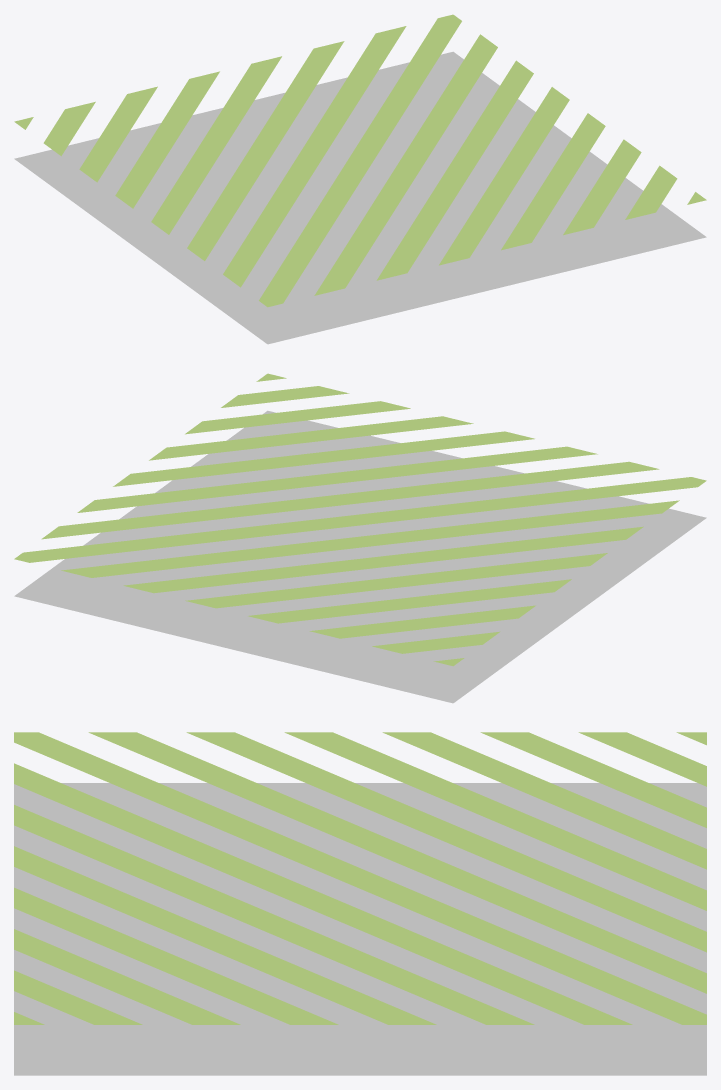
The model's file is -1_green.fbx.
3 views of the same model, one above another, from view 1: azimuth 30°, elevation 25°; view 2: azimuth 150°, elevation 25°; view 3: azimuth 270°, elevation 25° (orthographic). The views are drawn at different scales.
Parts seen in each view (by area): view 1: colored meshes for gh; view 2: colored meshes for gh; view 3: colored meshes for gh.
Part boxes in pixels (bbox=[...]): colored meshes for gh: bbox=[14, 14, 706, 344]; colored meshes for gh: bbox=[14, 373, 706, 703]; colored meshes for gh: bbox=[14, 732, 706, 1075].
Bounding box in the file's own units: 32.58 × 2.63 × 32.58.
